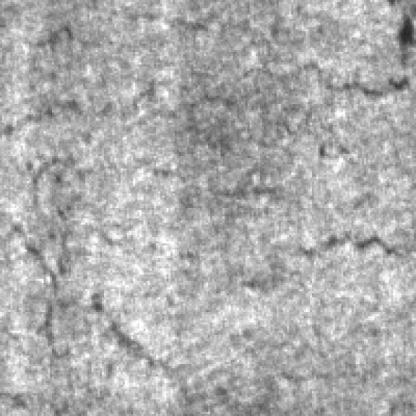crazing: (19, 0, 221, 410), (8, 0, 414, 133), (237, 58, 416, 262)
